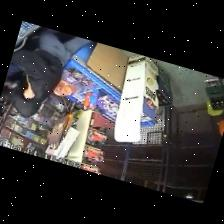person: (7, 28, 89, 116)
